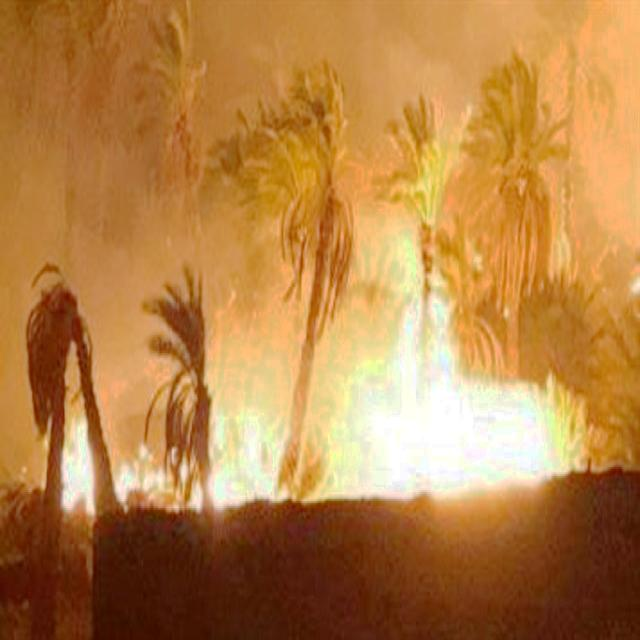api: (325, 301, 559, 497), (210, 392, 291, 503), (63, 421, 92, 510)
asap: (196, 1, 640, 246), (1, 1, 158, 468)
